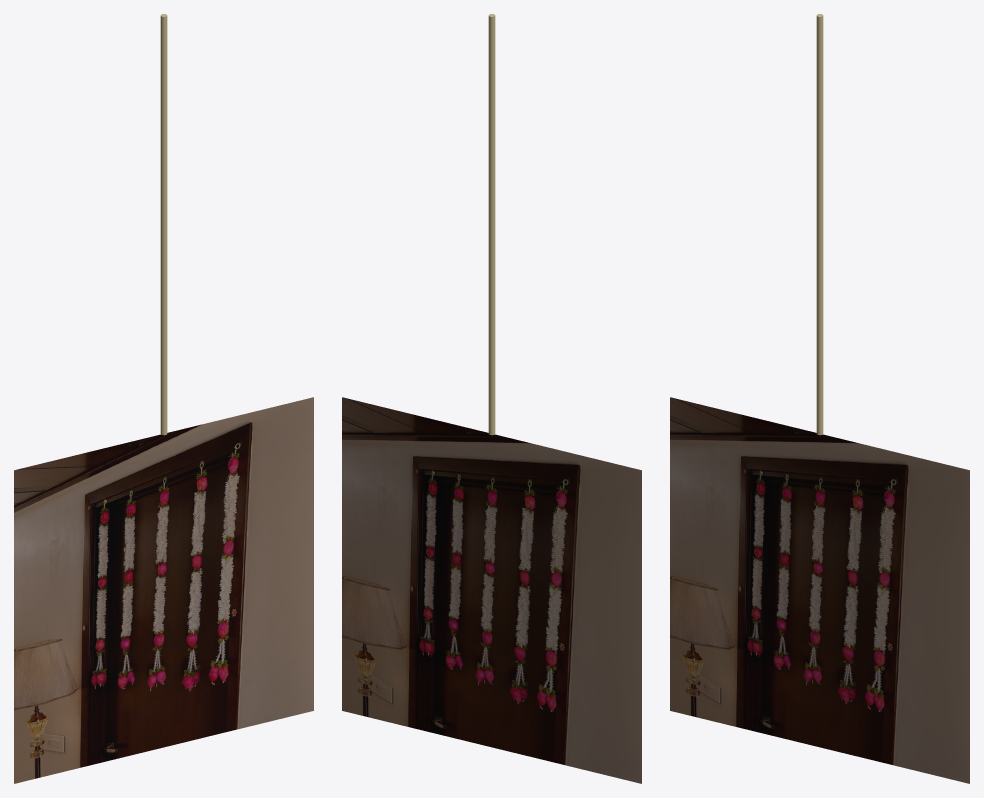
File: B0FNWV9JXK.glb
3 renders of one model, left to right at view 1: azimuth 30°, elevation 25°; view 2: azimuth 150°, elevation 25°; view 3: azimuth 330°, elevation 25°, orthographic.
Visible parts, largest first — view 1: photo, string; view 2: photo, string; view 3: photo, string.
Part boxes in pixels (left/top/right/bottom): photo: left=14, top=397, right=313, bottom=783; string: left=160, top=14, right=167, bottom=435; photo: left=342, top=397, right=641, bottom=783; string: left=488, top=14, right=495, bottom=435; photo: left=670, top=397, right=969, bottom=783; string: left=816, top=14, right=823, bottom=435.
Size of the model in its own units: 0.3 by 0.7 by 0.006.
Materials: 1 (1 with a texture image).
